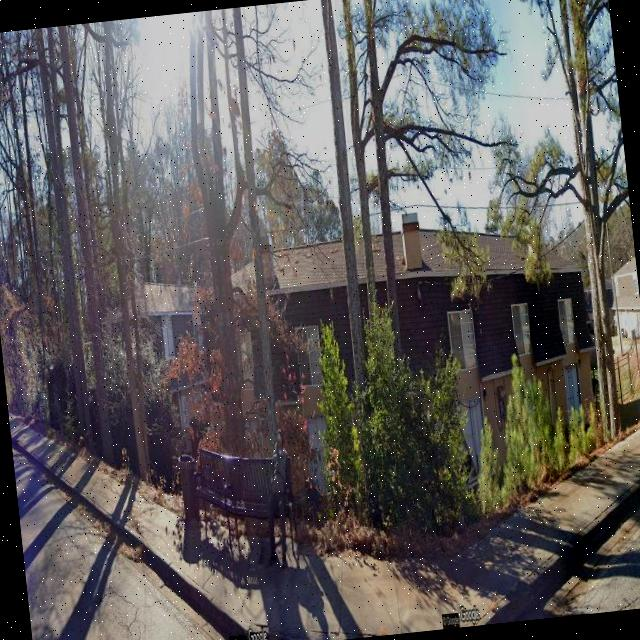seating: (188, 434, 302, 571)
trash_can: (176, 450, 202, 524)
